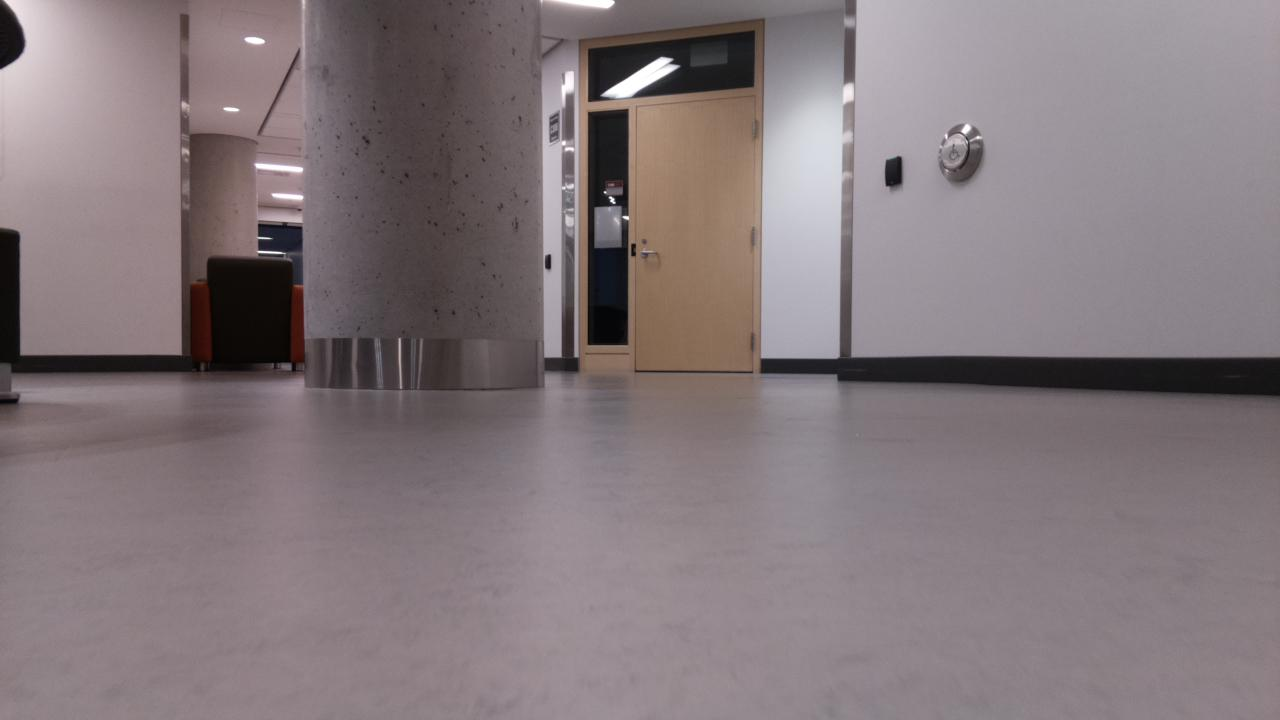door: (636, 97, 753, 370)
sign: (550, 112, 559, 142), (607, 181, 622, 194)
